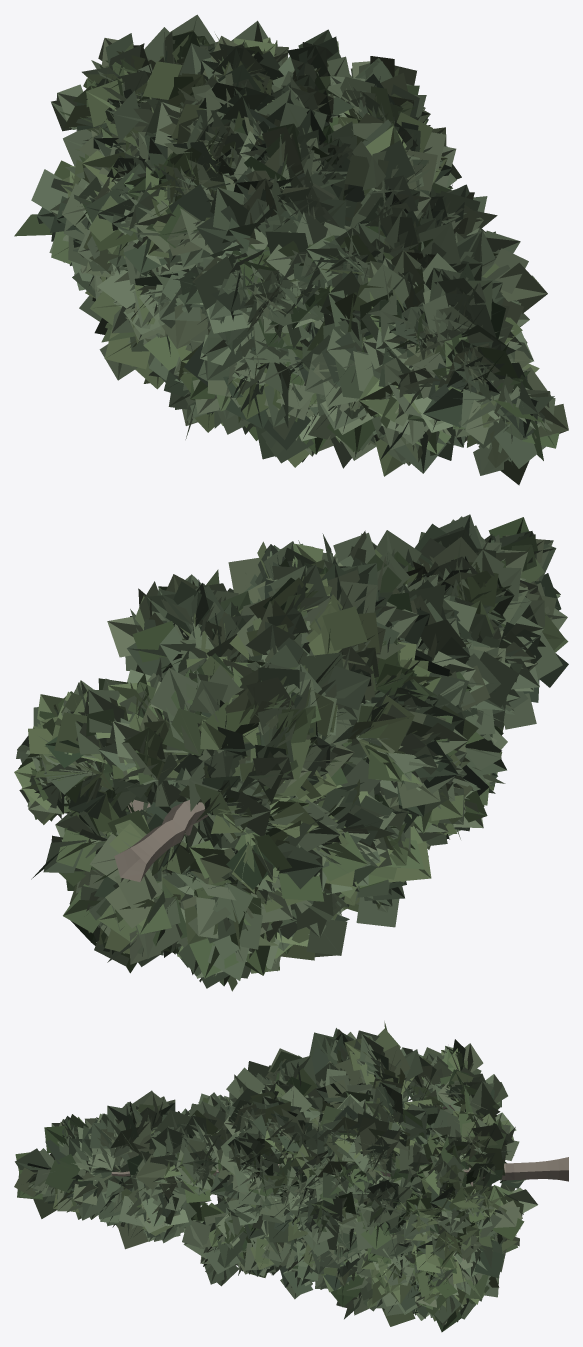
Rendered from tree_mid_14.obj.
3 views of the same model, one above another, from view 1: azimuth 30°, elevation 25°; view 2: azimuth 150°, elevation 25°; view 3: azimuth 270°, elevation 25° (orthographic). The views are drawn at different scales.
Visible parts, largest first — view 1: tree_mid_14; view 2: tree_mid_14; view 3: tree_mid_14.
Boxes of the visible parts, x1,y1,x2,y2 form: tree_mid_14: (14, 14, 568, 485); tree_mid_14: (14, 514, 568, 991); tree_mid_14: (14, 1021, 568, 1332).
Bounding box in the file's own units: 0.563 × 0.5518 × 1.01.
Materials: 1 (1 with a texture image).
